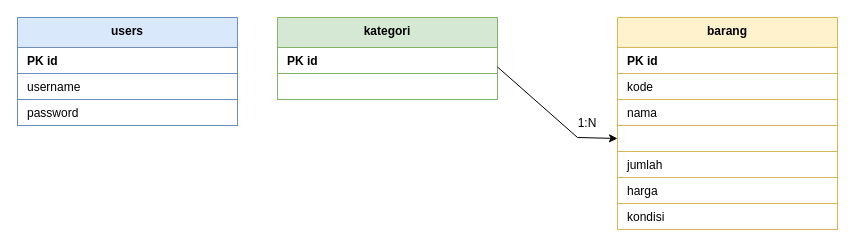
This 855x247 diagram has some shape labels left out. Each missing label, with the centre of its shape:
"FK kategori_id" belongs at [727,138].
"nama_kategori" belongs at [387,86].
